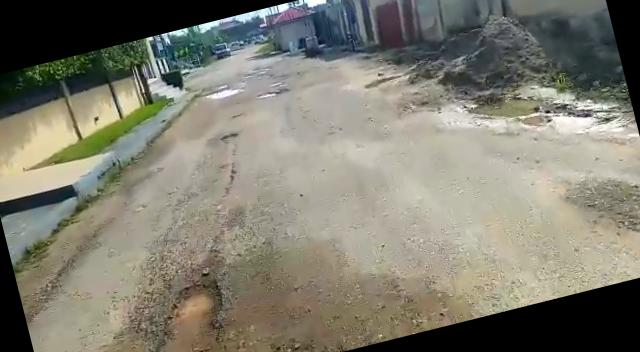pothole: (150, 277, 232, 343), (198, 84, 245, 106), (256, 88, 284, 103)
